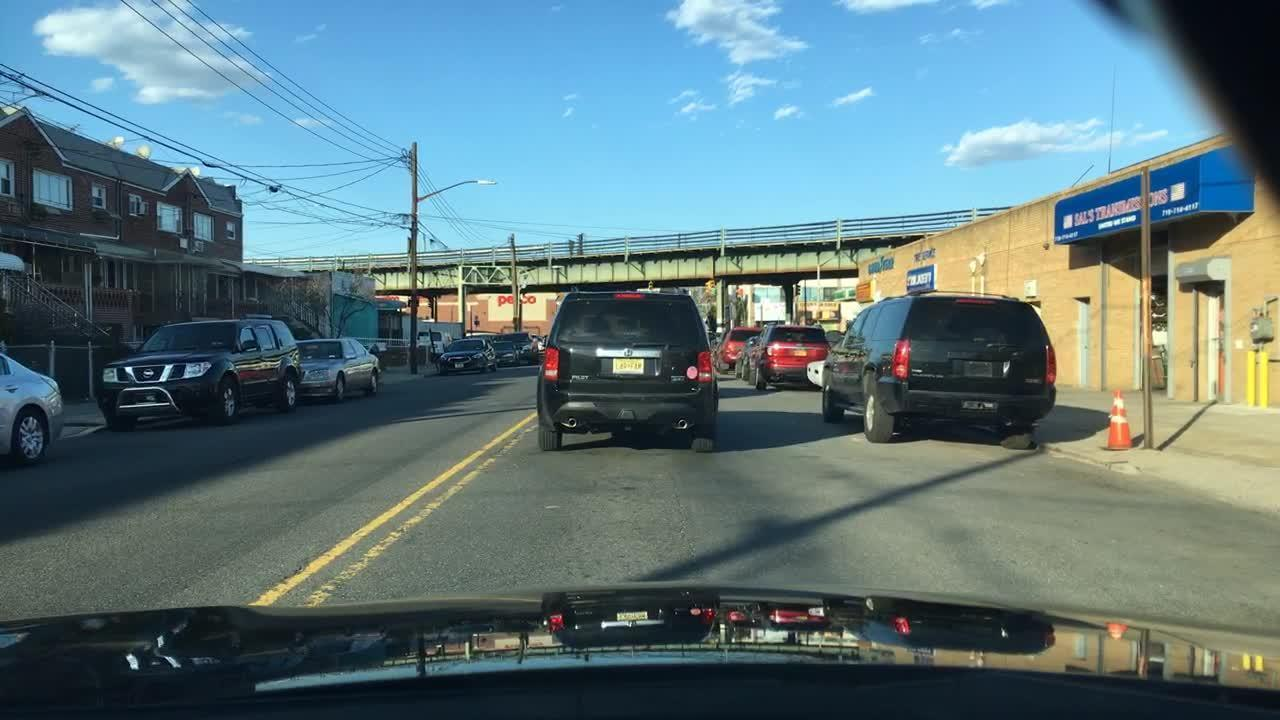Honda: (620, 346, 636, 362)
